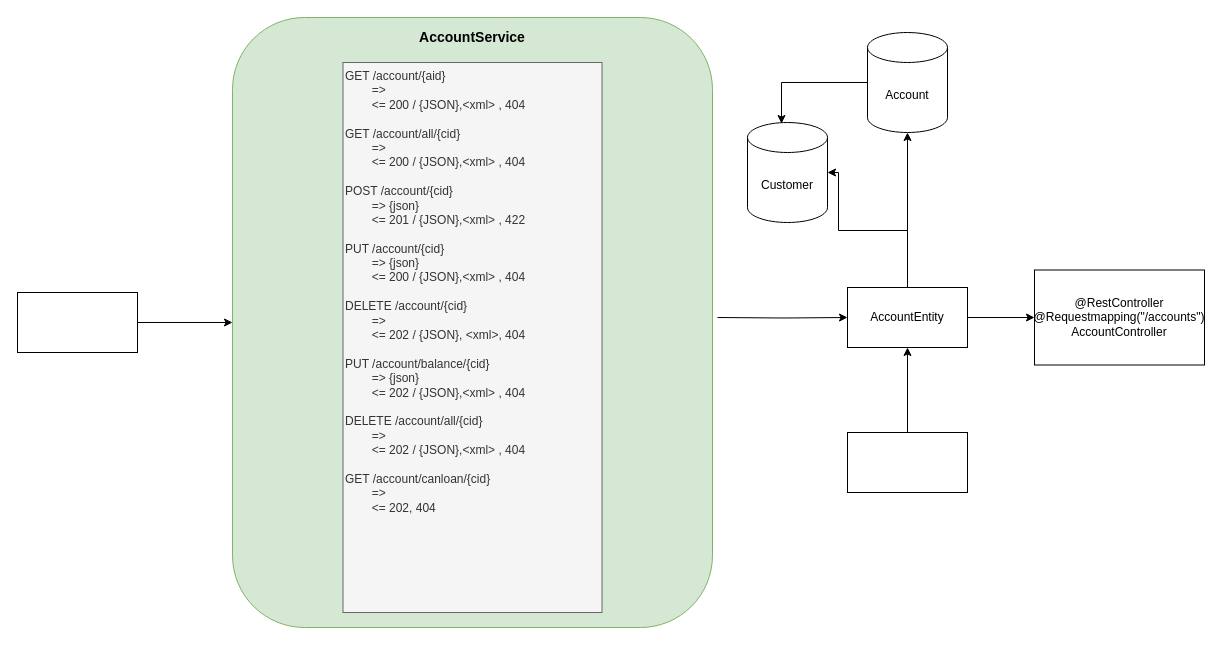
Some shapes in this 1222 by 645 pixel diagram are drawn without their labels. The shapes that lost their labels are listed below. From the top down, each one's centre as x and y in pixels, then its label:
(x=77, y=322): BEST APP CAIXA
(x=907, y=462): CustomerEntity
